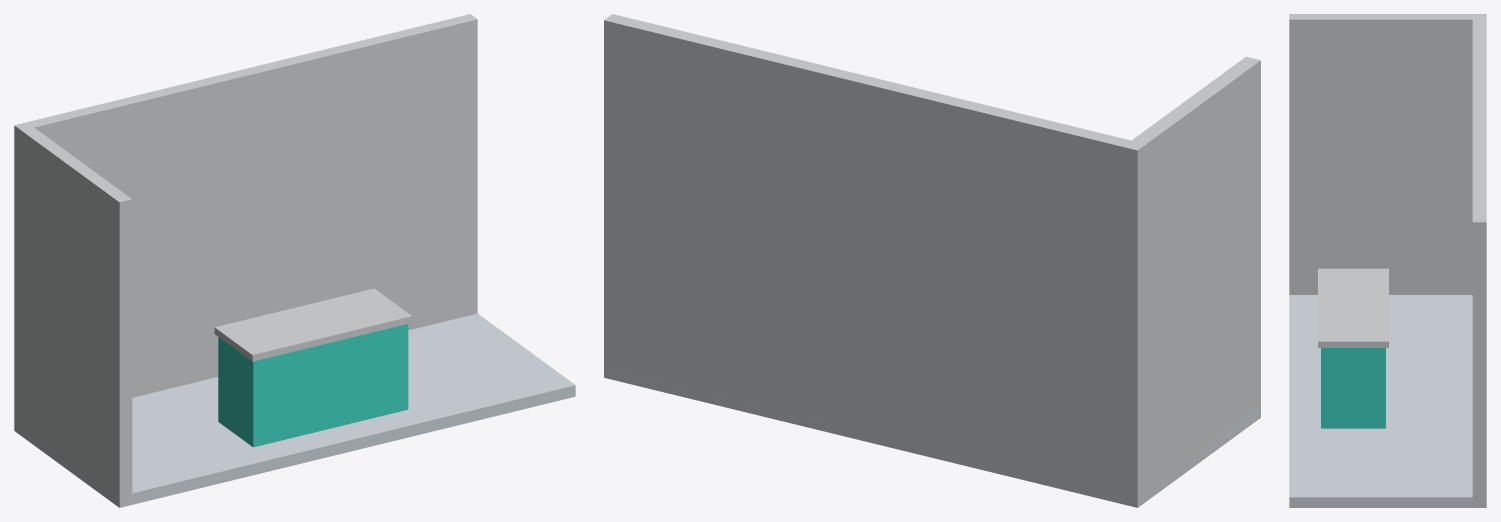
3 views of the same model, side by side, from view 1: azimuth 30°, elevation 25°; view 2: azimuth 150°, elevation 25°; view 3: azimuth 270°, elevation 25° (orthographic). The views are drawn at different scales.
Parts seen in each view (by area): view 1: Exhibition Booth Concept; view 2: Exhibition Booth Concept; view 3: Exhibition Booth Concept.
Part boxes in pixels (box(x1,y1,x2,y2)): Exhibition Booth Concept: box(14, 14, 575, 507); Exhibition Booth Concept: box(604, 14, 1260, 507); Exhibition Booth Concept: box(1289, 14, 1486, 507).
Size of the model in its own units: 5 by 3.2 by 2.
